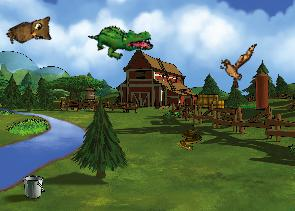crocodile: (87, 14, 155, 67)
eagle: (217, 40, 257, 90)
owl: (4, 11, 58, 56)
